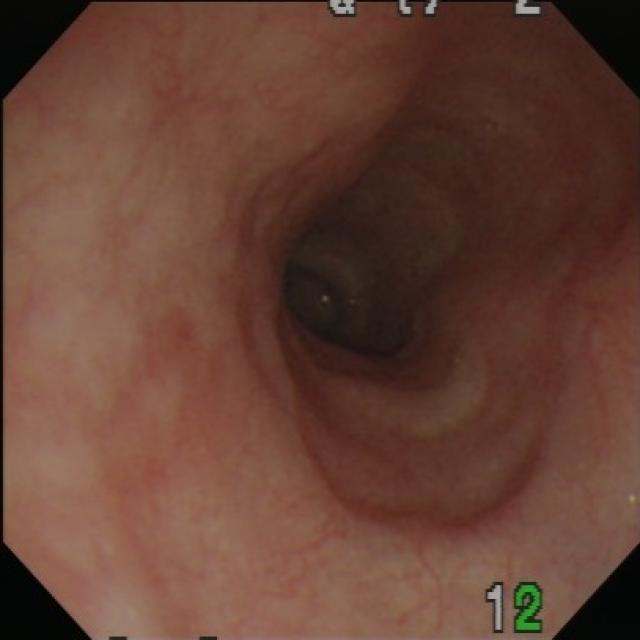E: (279, 227, 429, 369)
S: (325, 3, 545, 20), (485, 581, 547, 636)
